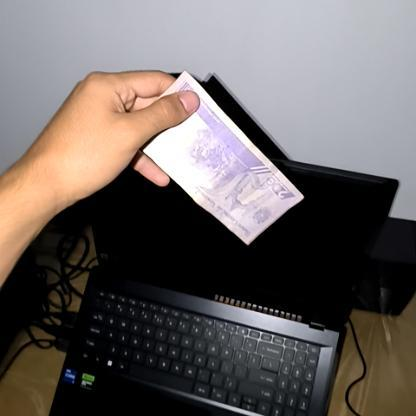ten-back-vef: (119, 71, 304, 244)
